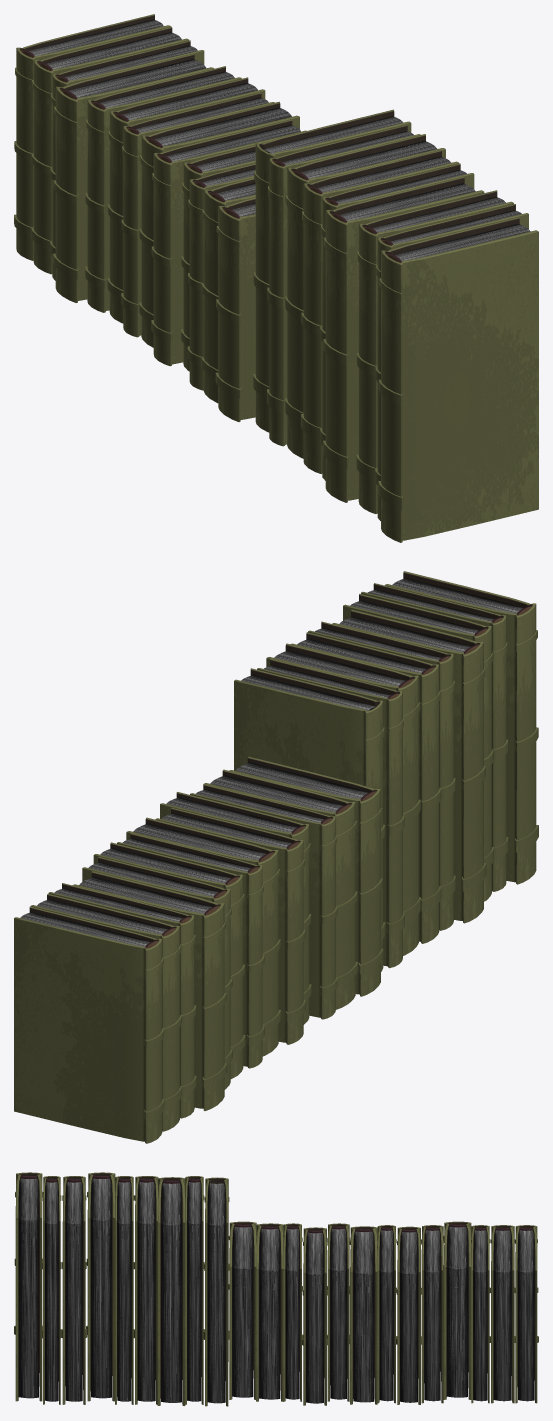
The model's file is Shelf18.fbx.
3 views of the same model, one above another, from view 1: azimuth 30°, elevation 25°; view 2: azimuth 150°, elevation 25°; view 3: azimuth 270°, elevation 25° (orthographic). The views are drawn at different scales.
Visible parts, largest first — view 1: pCube96, pCube1 (×6), pCube65 (×5), pCube64 (×5), pCube10 (×3), pCube94, pages4 (×4), pages2 (×4), pages1 (×3), pages5 (×4), pCube95, pages20 (+2 smaller); view 2: pCube10 (×3), pCube1 (×6), pCube65 (×5), pCube64 (×5), pCube96, pages4 (×6), pages2 (×5), pCube95, pages5 (×5), pCube94, pages1 (×3), pages20 (+2 smaller); view 3: pages4 (×6), pages2 (×5), pages5 (×5), pCube1 (×6), pages1 (×3), pCube65 (×5), pCube64 (×5), pages20, pCube10 (×3), pages18, pages19, pCube96 (+2 smaller).
Part boxes in pixels (bbox=[...]): pCube96: bbox=[378, 217, 538, 542]; pCube1 (×6): bbox=[53, 53, 484, 502]; pCube65 (×5): bbox=[31, 26, 459, 473]; pCube64 (×5): bbox=[50, 40, 474, 480]; pCube10 (×3): bbox=[14, 14, 306, 366]; pCube94: bbox=[356, 190, 513, 513]; pages4 (×4): bbox=[69, 59, 475, 220]; pages2 (×4): bbox=[47, 32, 450, 192]; pages1 (×3): bbox=[29, 19, 300, 161]; pages5 (×4): bbox=[65, 45, 466, 203]; pCube95: bbox=[375, 204, 528, 520]; pages20: bbox=[395, 223, 530, 260]; pCube10 (×3): bbox=[14, 807, 305, 1143]; pCube1 (×6): bbox=[72, 609, 486, 1110]; pCube65 (×5): bbox=[30, 632, 441, 1131]; pCube64 (×5): bbox=[48, 621, 455, 1118]; pCube96: bbox=[385, 571, 538, 884]; pages4 (×6): bbox=[79, 616, 470, 913]; pages2 (×5): bbox=[37, 639, 425, 934]; pCube95: bbox=[361, 583, 508, 891]; pages5 (×5): bbox=[54, 628, 440, 921]; pCube94: bbox=[343, 594, 493, 901]; pages1 (×3): bbox=[20, 813, 291, 946]; pages20: bbox=[392, 578, 522, 613]; pages4 (×6): bbox=[91, 1178, 467, 1402]; pages2 (×5): bbox=[137, 1182, 511, 1403]; pages5 (×5): bbox=[117, 1182, 487, 1401]; pCube1 (×6): bbox=[86, 1172, 471, 1405]; pages1 (×3): bbox=[330, 1228, 534, 1401]; pCube65 (×5): bbox=[133, 1176, 515, 1406]; pCube64 (×5): bbox=[115, 1176, 490, 1404]; pages20: bbox=[18, 1178, 38, 1398]; pCube10 (×3): bbox=[327, 1223, 538, 1403]; pages18: bbox=[65, 1182, 82, 1401]; pages19: bbox=[45, 1182, 58, 1401]; pCube96: bbox=[14, 1172, 43, 1401].
Size of the model in its own units: 0.6589 by 1.09 by 2.81.
